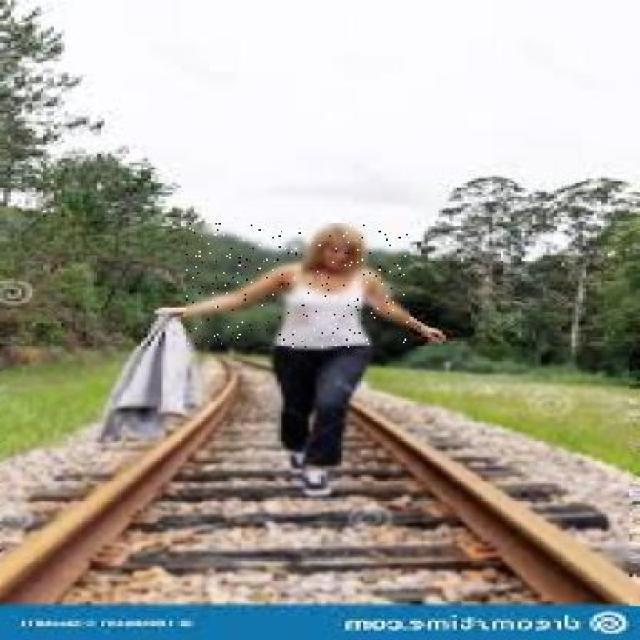danger: (186, 222, 409, 496)
rail: (0, 348, 629, 608), (223, 200, 228, 209)
